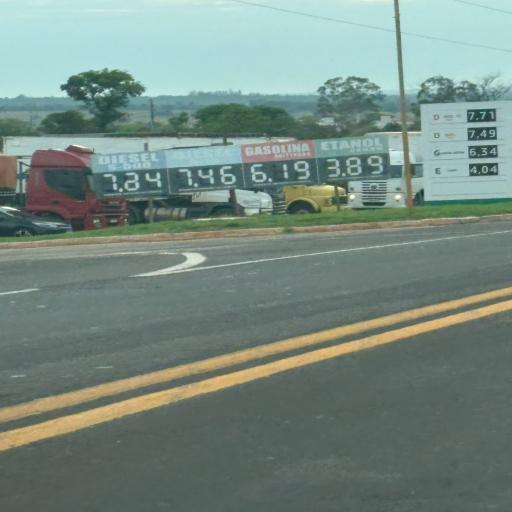ETANOL: (317, 135, 388, 156), (430, 164, 466, 177)
GASOLINA AD: (243, 140, 315, 162), (431, 148, 468, 161)
S10: (166, 145, 238, 171), (426, 111, 465, 123)
S500: (94, 150, 164, 175), (428, 127, 461, 145)
placa: (90, 134, 391, 199), (419, 101, 512, 200)
preco: (100, 168, 165, 196), (175, 164, 241, 191), (247, 159, 313, 186), (323, 153, 387, 180), (468, 162, 501, 176), (467, 109, 496, 123), (469, 145, 499, 157), (467, 128, 496, 139)
